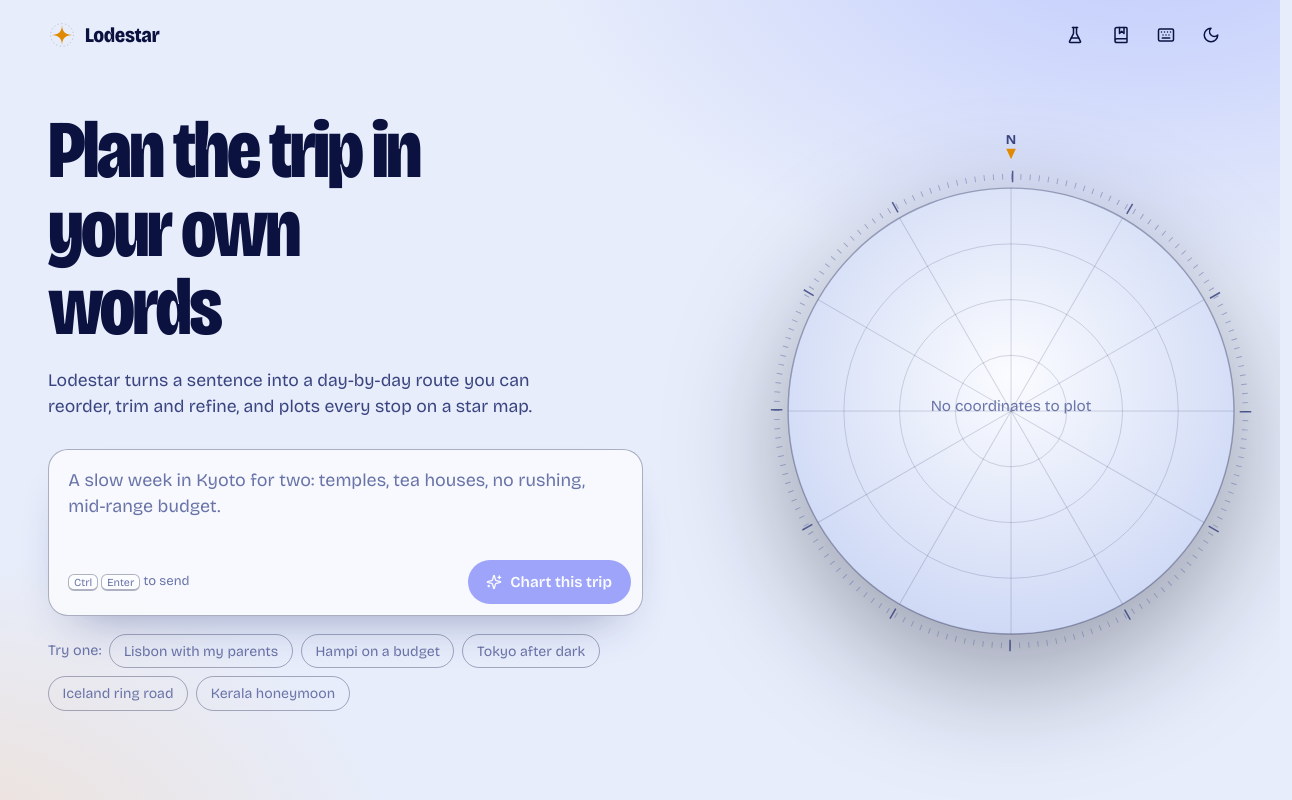
Test: App › survives an answer that is only prose
This screenshot has width=1292, height=800.
Replace the text in the text box named "describe your trip" with "Three days somewhere nice" at (345, 501), box [49,450,642,552]
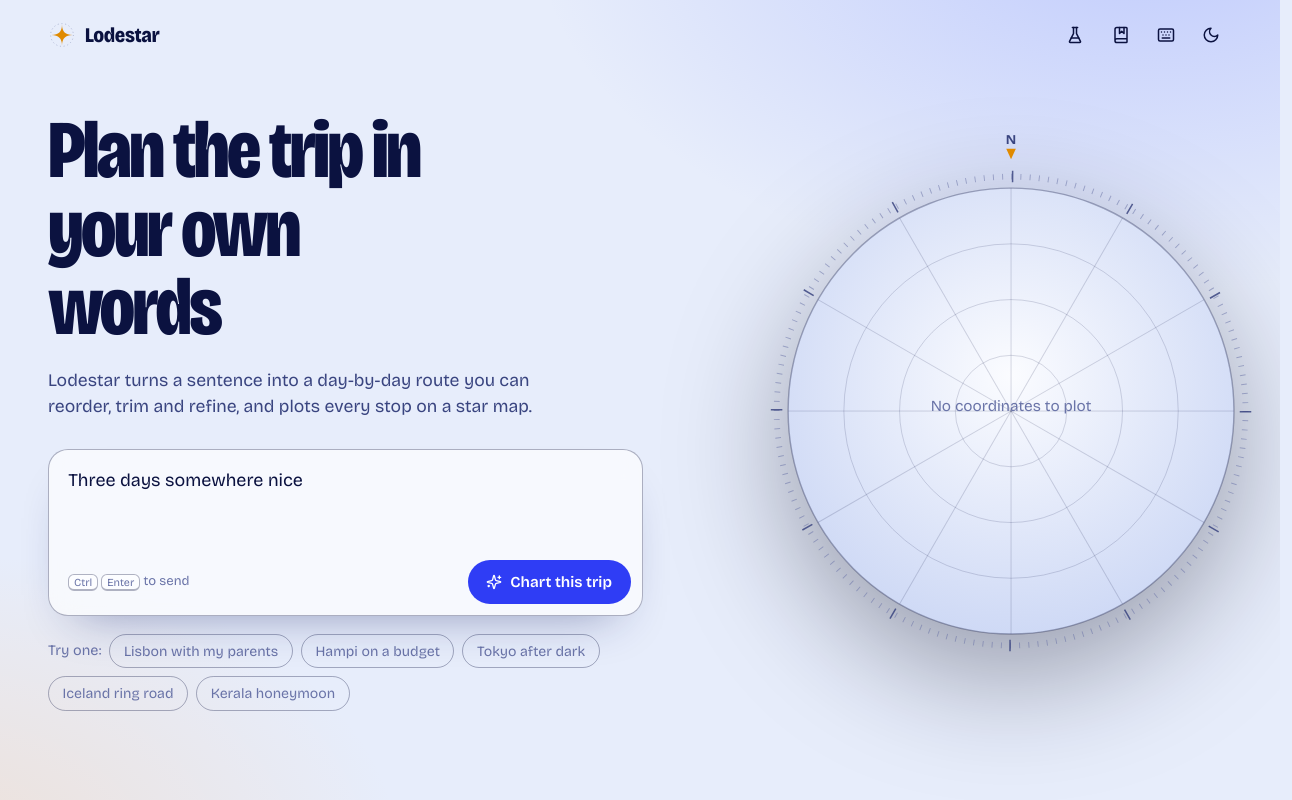
Click the button "Chart this trip".
click(549, 582)  # box [468,560,630,604]
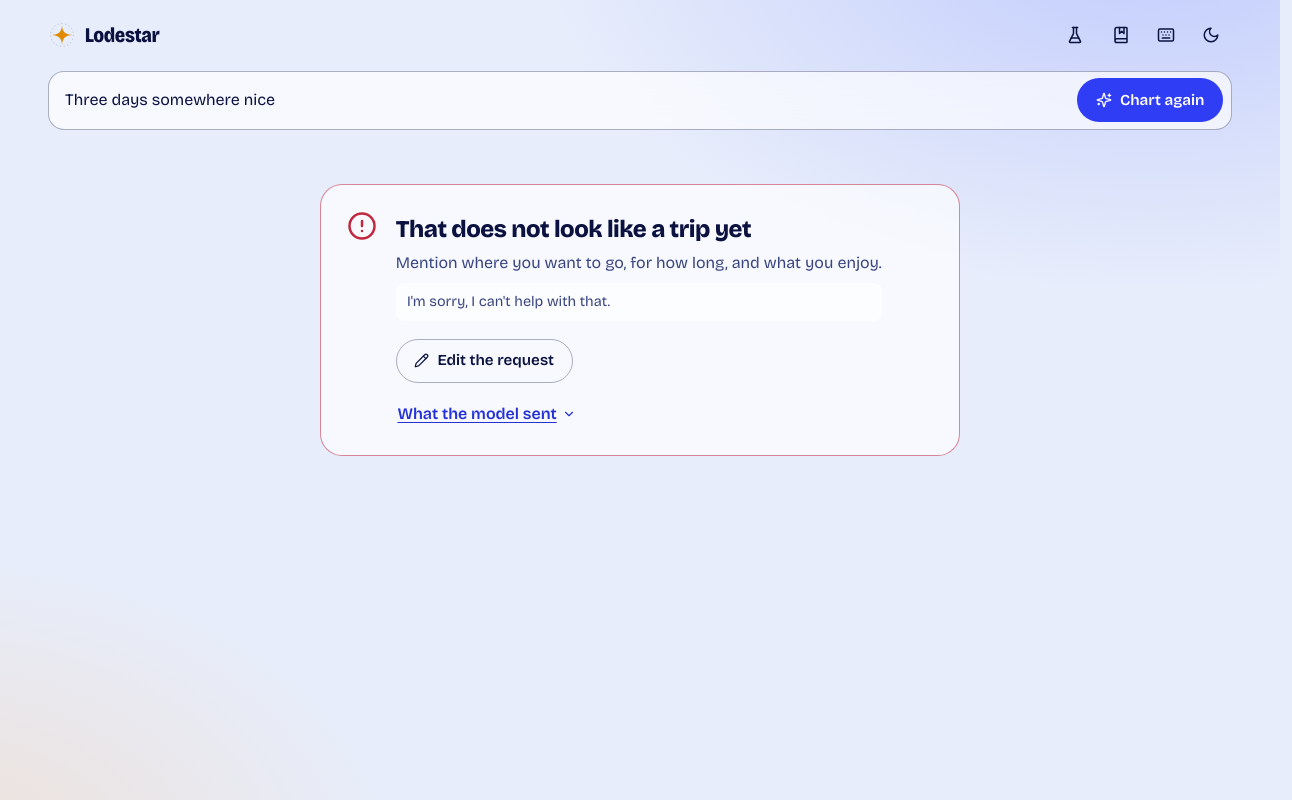
Expected: the message is shown, [320,184,960,456]
